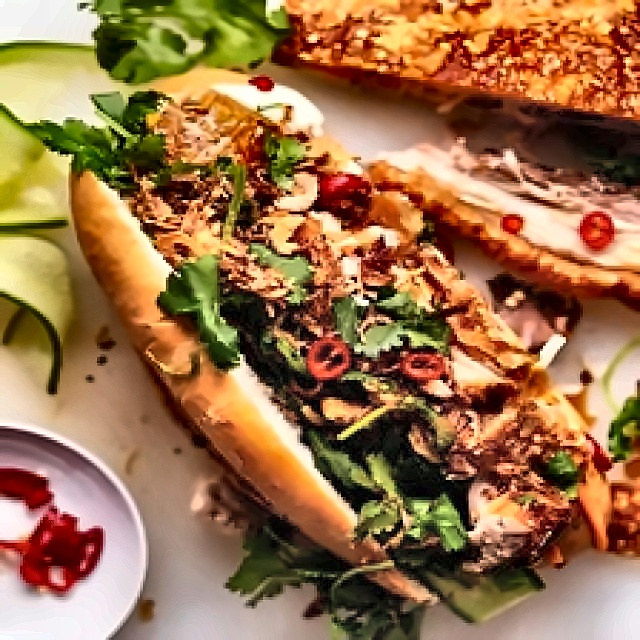bread: (243, 409, 397, 594), (143, 316, 286, 476), (61, 174, 173, 354)
cucumber_slice: (0, 80, 80, 226), (0, 274, 26, 349)
